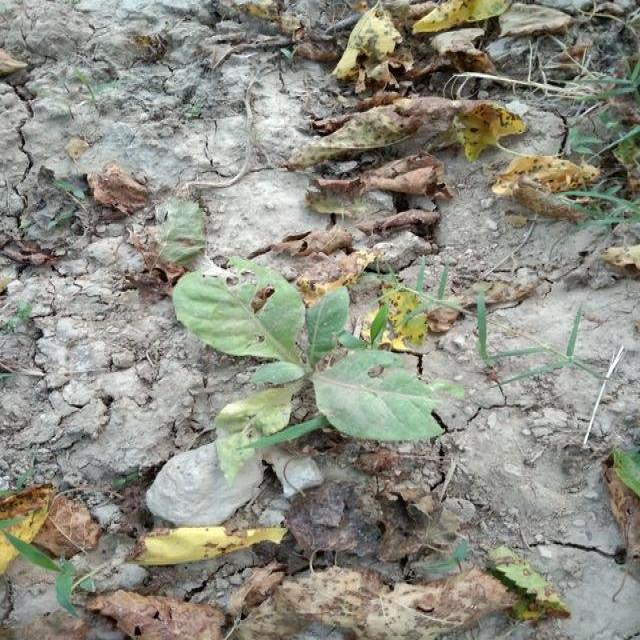crop: (172, 248, 446, 458)
